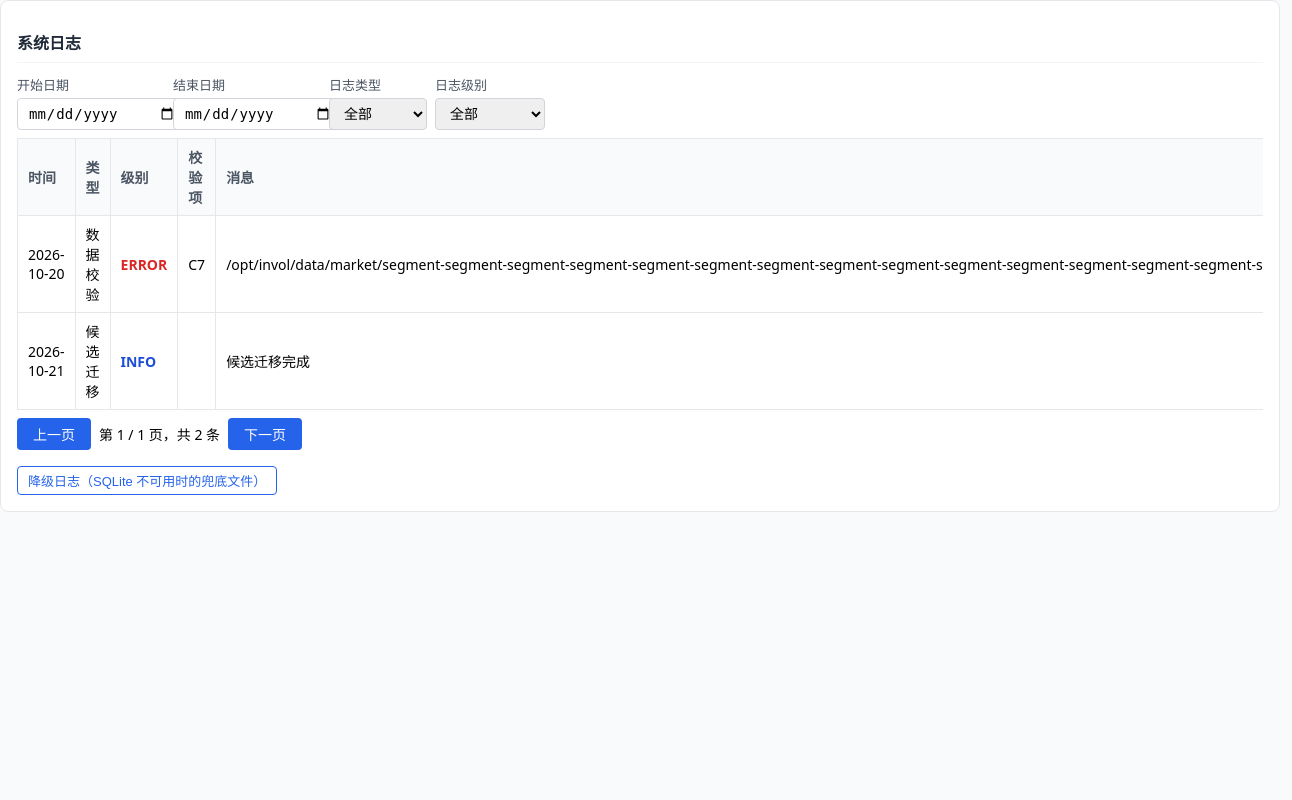
Wave 7 卡 1 · Admin 日志面板 › Admin 日志面板：降级日志有内容时逐行展示
Click the button "降级日志（SQLite 不可用时的兜底文件）" at (147, 481), box left=17, top=466, right=277, bottom=495
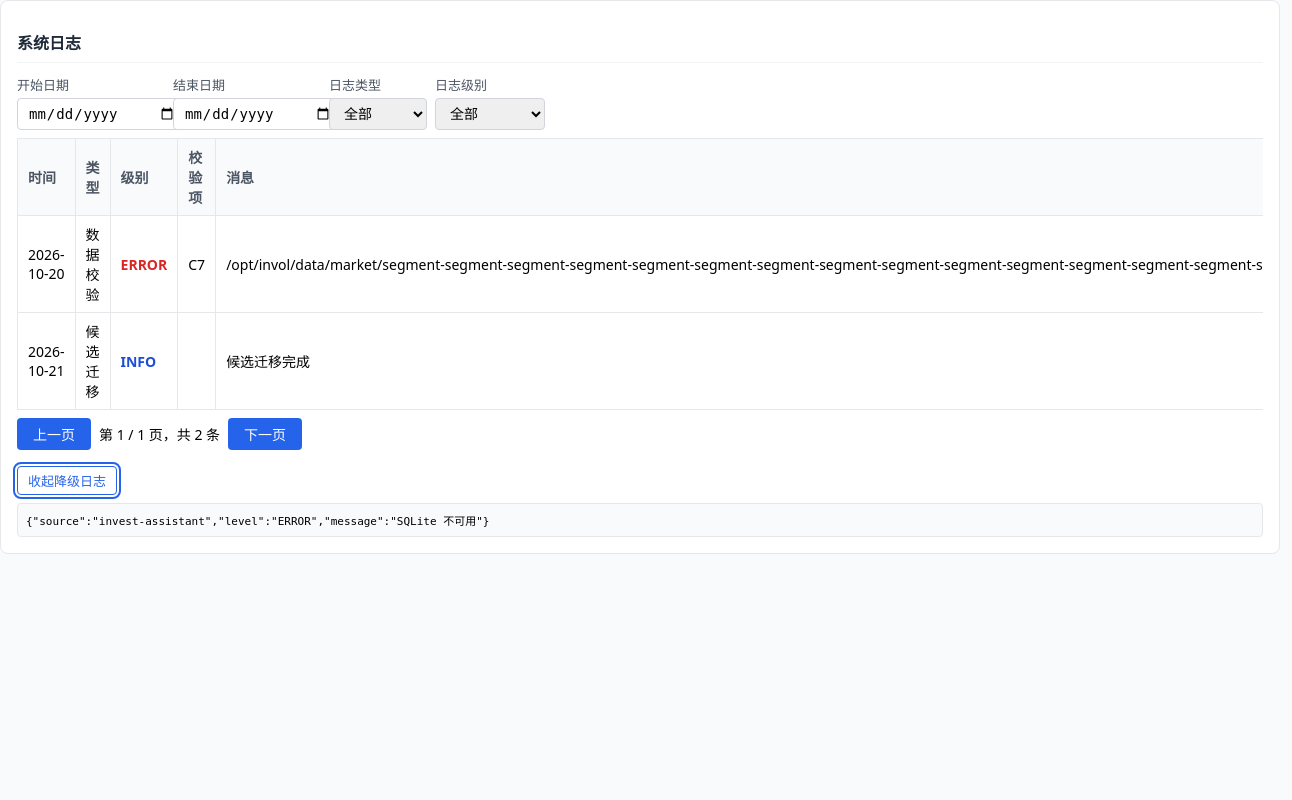
Check: the text with test id "admin-log-fallback-lines" shows "SQLite 不可用", box left=26, top=515, right=490, bottom=528
